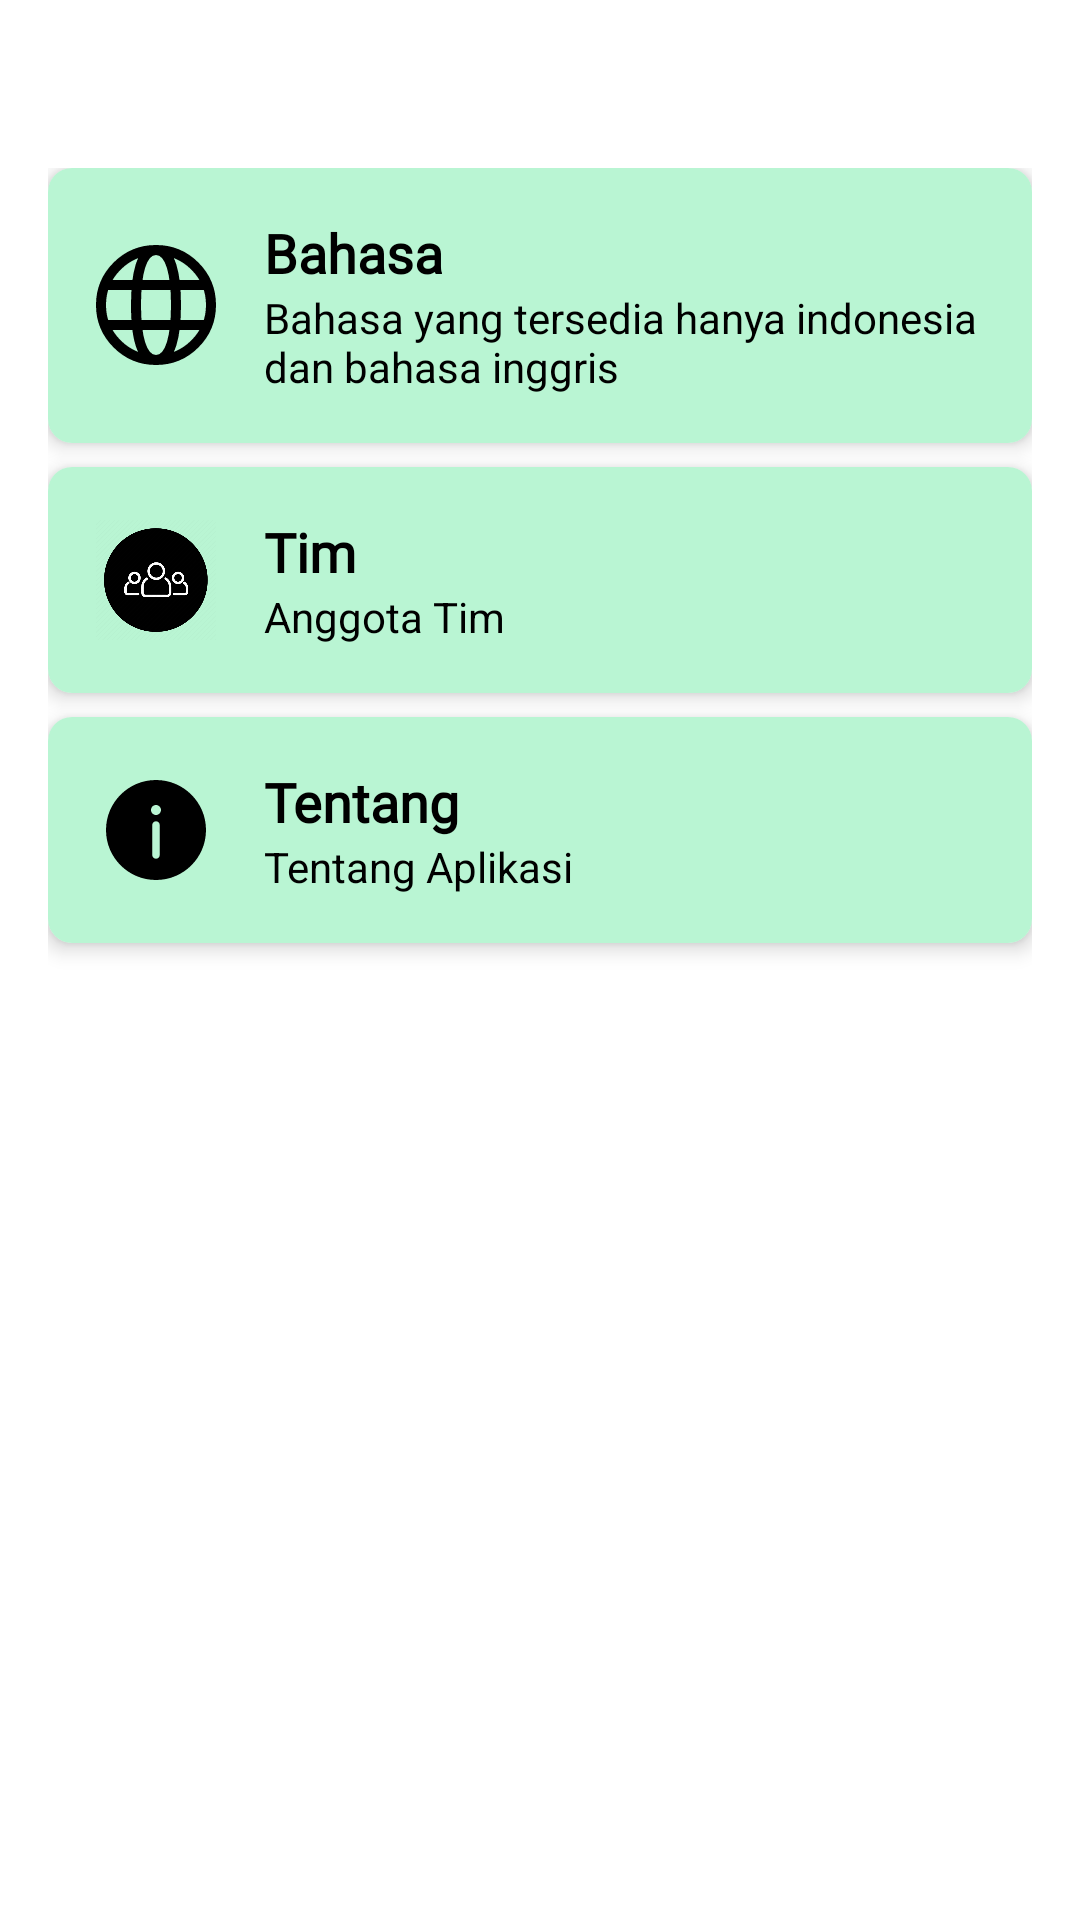

Icon bounding boxes for this 1080 x 1920 phone screenshot, format BBox(x1, y1, x2, y2):
info: BBox(106, 780, 206, 880)
locale: BBox(96, 245, 216, 365)
team: BBox(104, 528, 208, 632)
